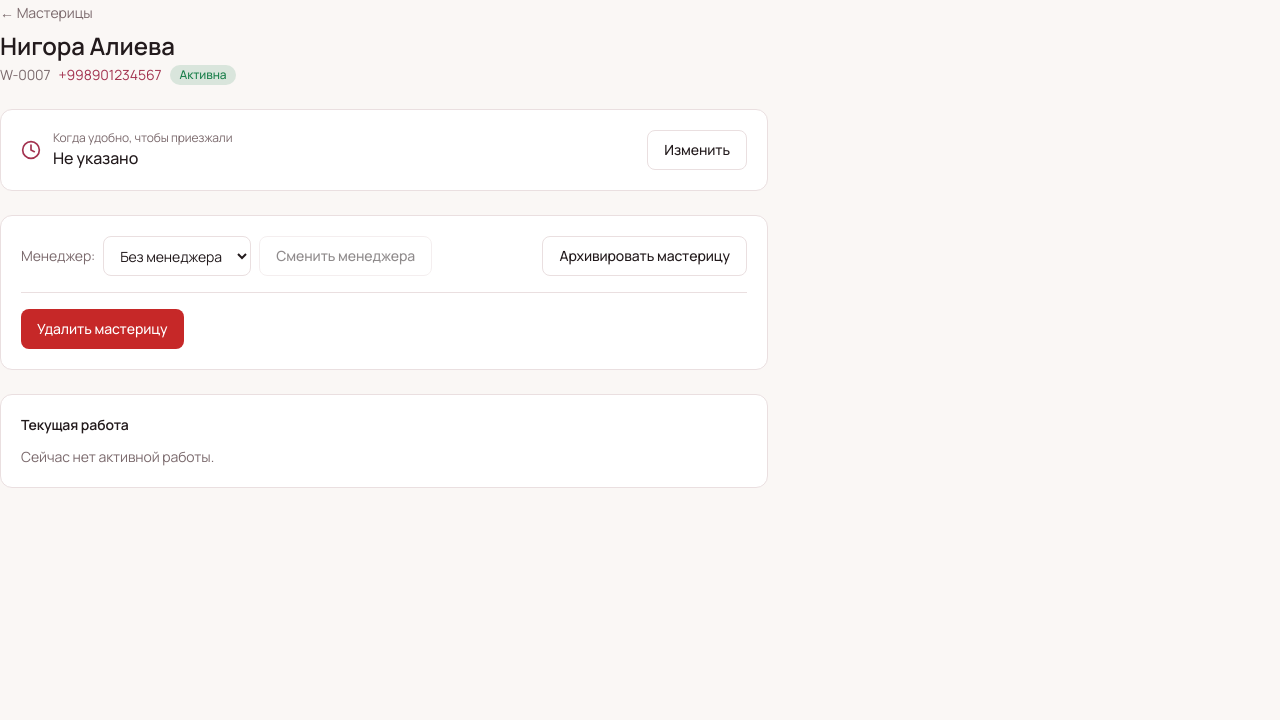
it: «Мастерицы»: add by invitation link, delete for good › delete refused (HAS_HISTORY): a plain explanation and «Архивировать» instead, never a raw code
The width and height of the screenshot is (1280, 720).
Click the button "Удалить мастерицу" at [102, 329], box x1=21 y1=309 x2=184 y2=349
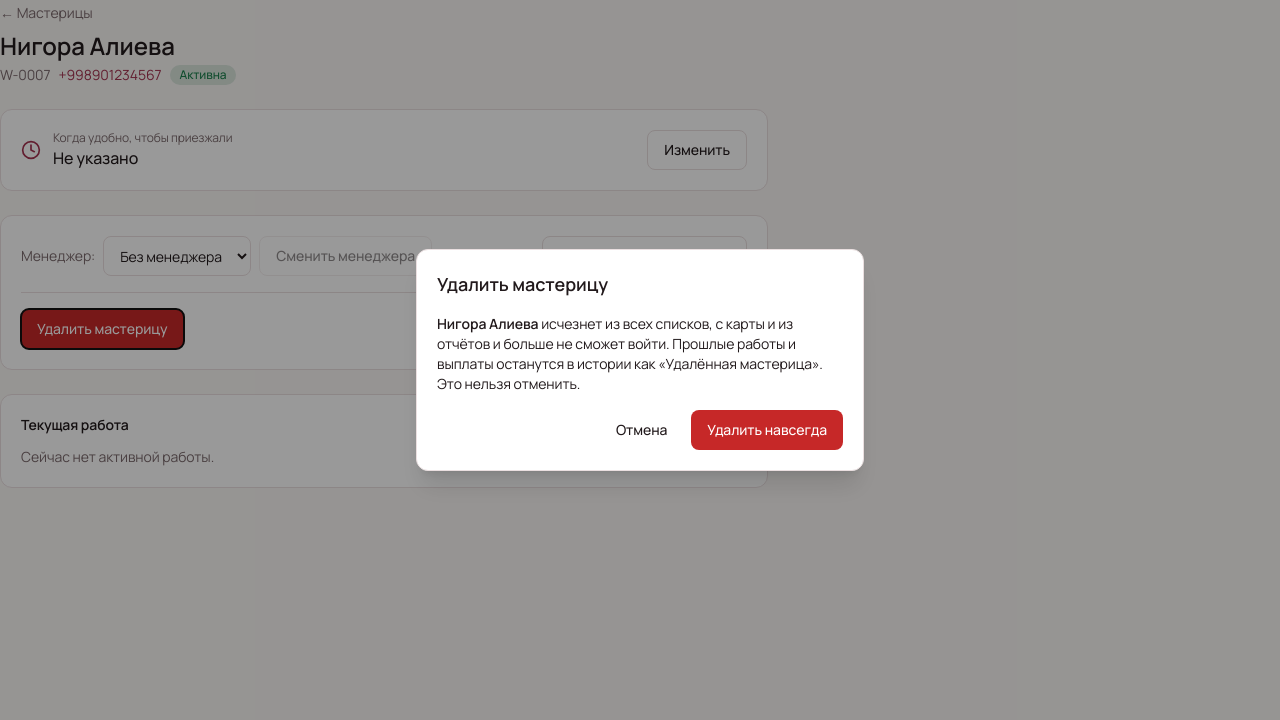
Click the button "Удалить навсегда" at [767, 430], box x1=691 y1=410 x2=843 y2=450
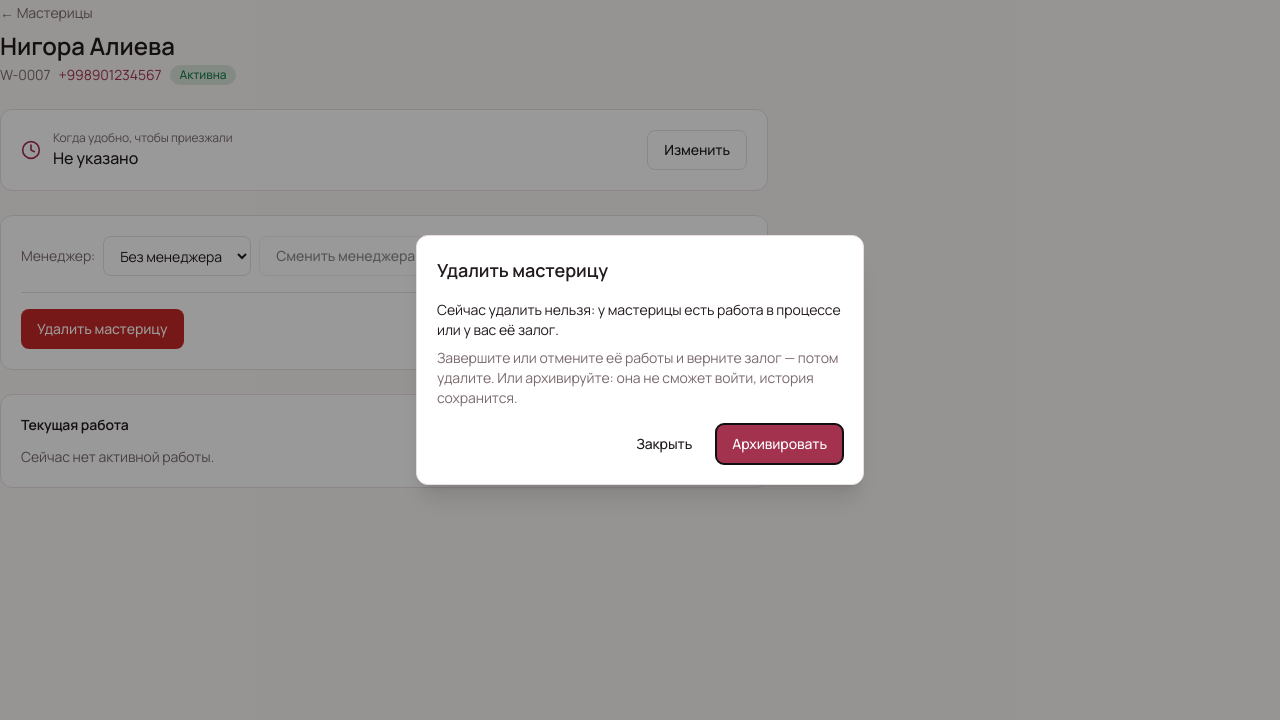
Expected: the text "Сейчас удалить нельзя" is shown, x1=437 y1=300 x2=840 y2=339
Expected: the button "Архивировать" is shown, x1=716 y1=424 x2=843 y2=464
